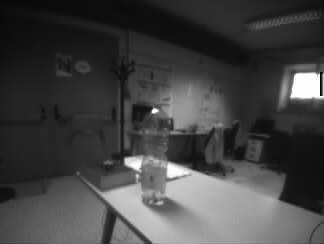Bottle: (140, 103, 167, 204)
